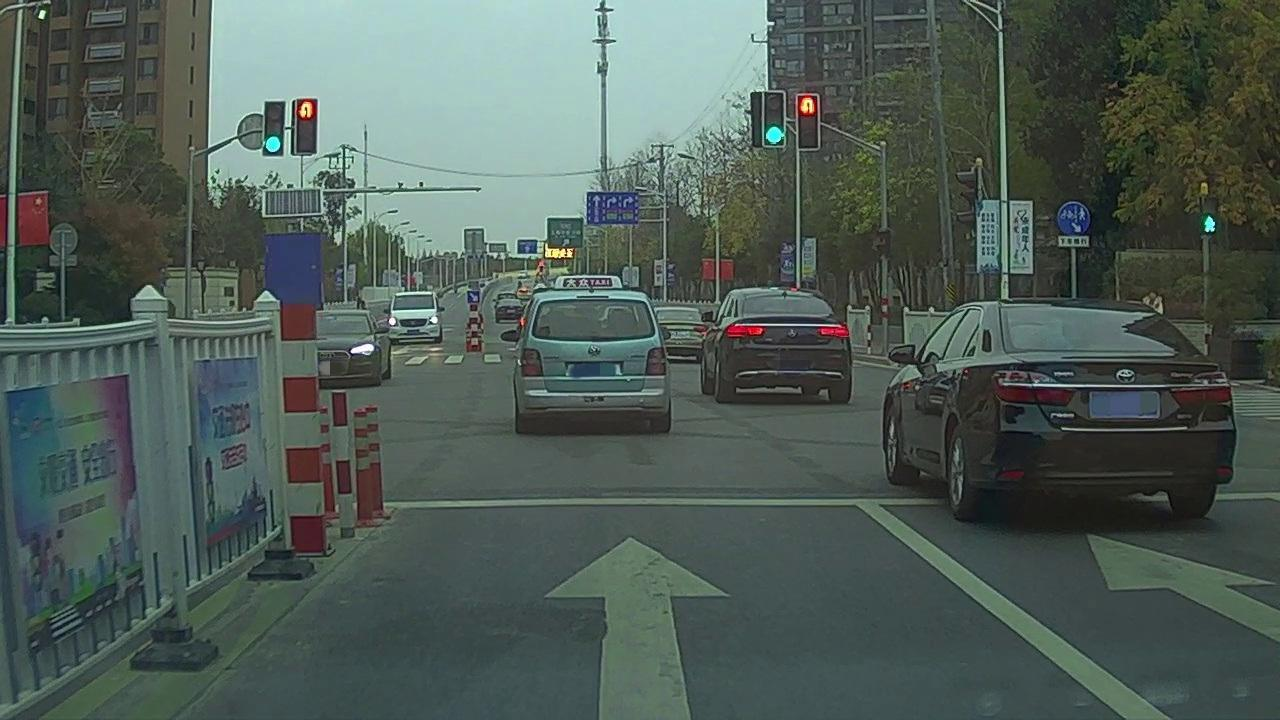traffic_light: (797, 97, 821, 151), (295, 99, 317, 154), (765, 92, 785, 148), (264, 100, 283, 156)
